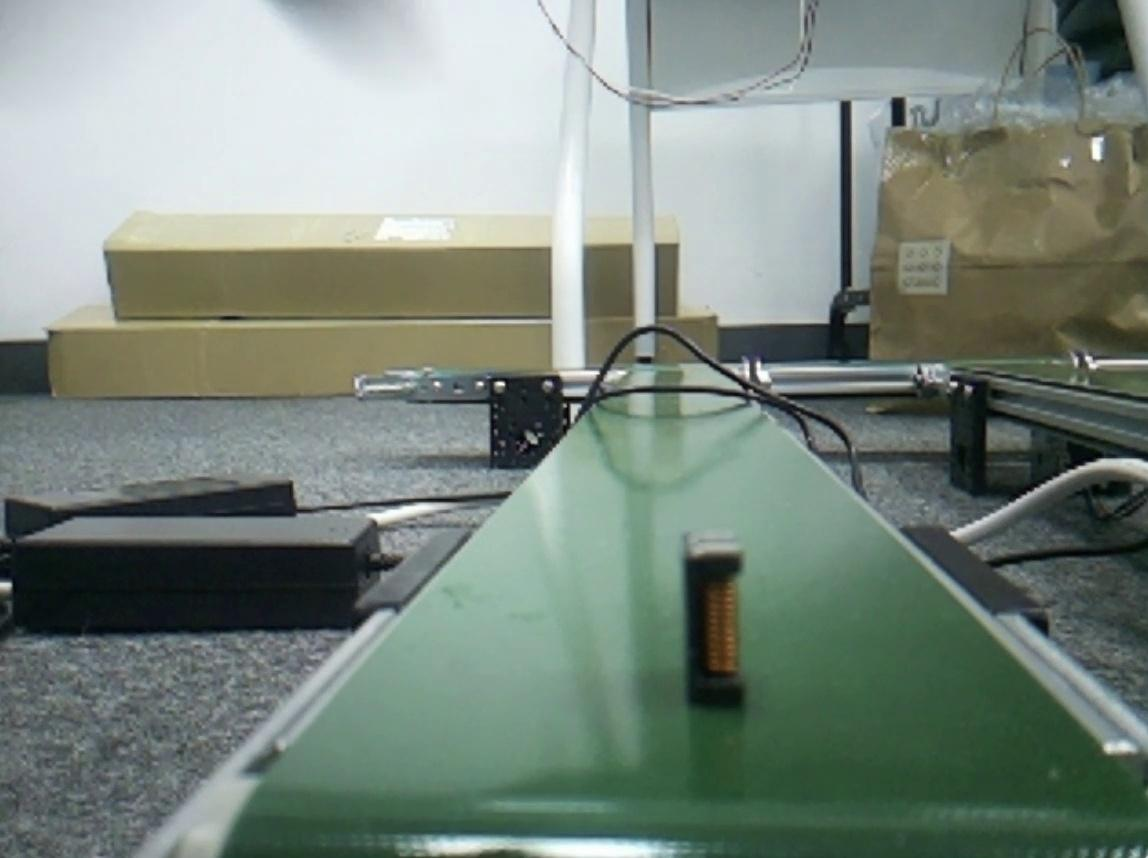inductor: (687, 538, 748, 712)
